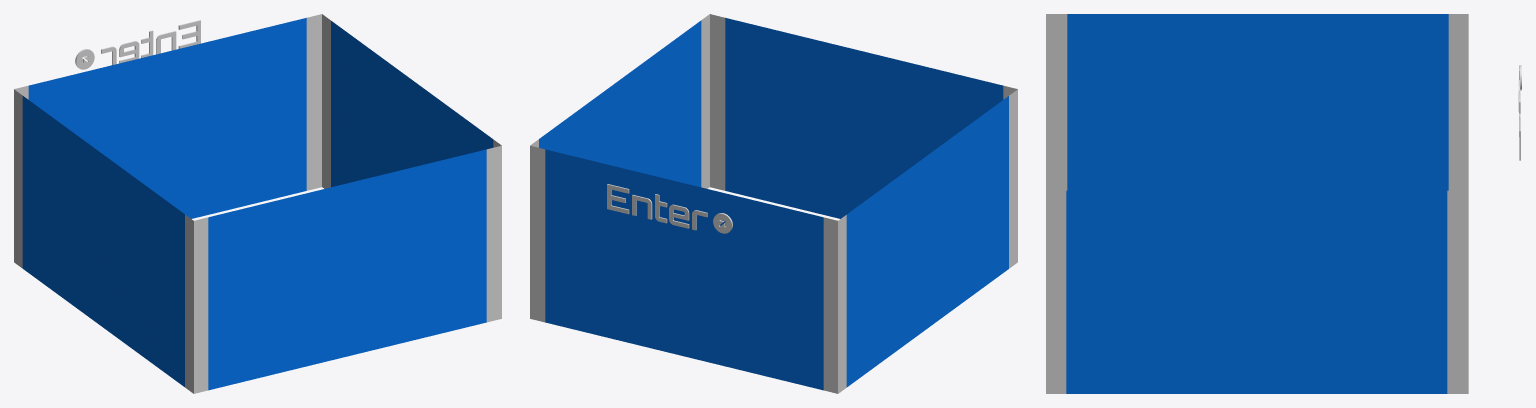
Rendered from mechanicalKeyboardEffects.glb.
3 renders of one model, left to right at view 1: azimuth 30°, elevation 25°; view 2: azimuth 150°, elevation 25°; view 3: azimuth 270°, elevation 25°, orthographic. The views are drawn at different scales.
Visible parts, largest first — view 1: cubeFaces.001, cubeCorners.001, keebEnter; view 2: cubeFaces.001, cubeCorners.001, keebEnter; view 3: cubeFaces.001, cubeCorners.001.
Part boxes in pixels (x1=…): cubeFaces.001: x1=22, y1=18, x2=493, y2=390; cubeCorners.001: x1=14, y1=14, x2=501, y2=393; keebEnter: x1=75, y1=20, x2=200, y2=69; cubeFaces.001: x1=539, y1=18, x2=1008, y2=390; cubeCorners.001: x1=530, y1=14, x2=1017, y2=393; keebEnter: x1=607, y1=184, x2=732, y2=233; cubeFaces.001: x1=1066, y1=14, x2=1448, y2=393; cubeCorners.001: x1=1046, y1=14, x2=1468, y2=393.
Size of the model in its own units: 84.32 by 46.13 by 95.99.
